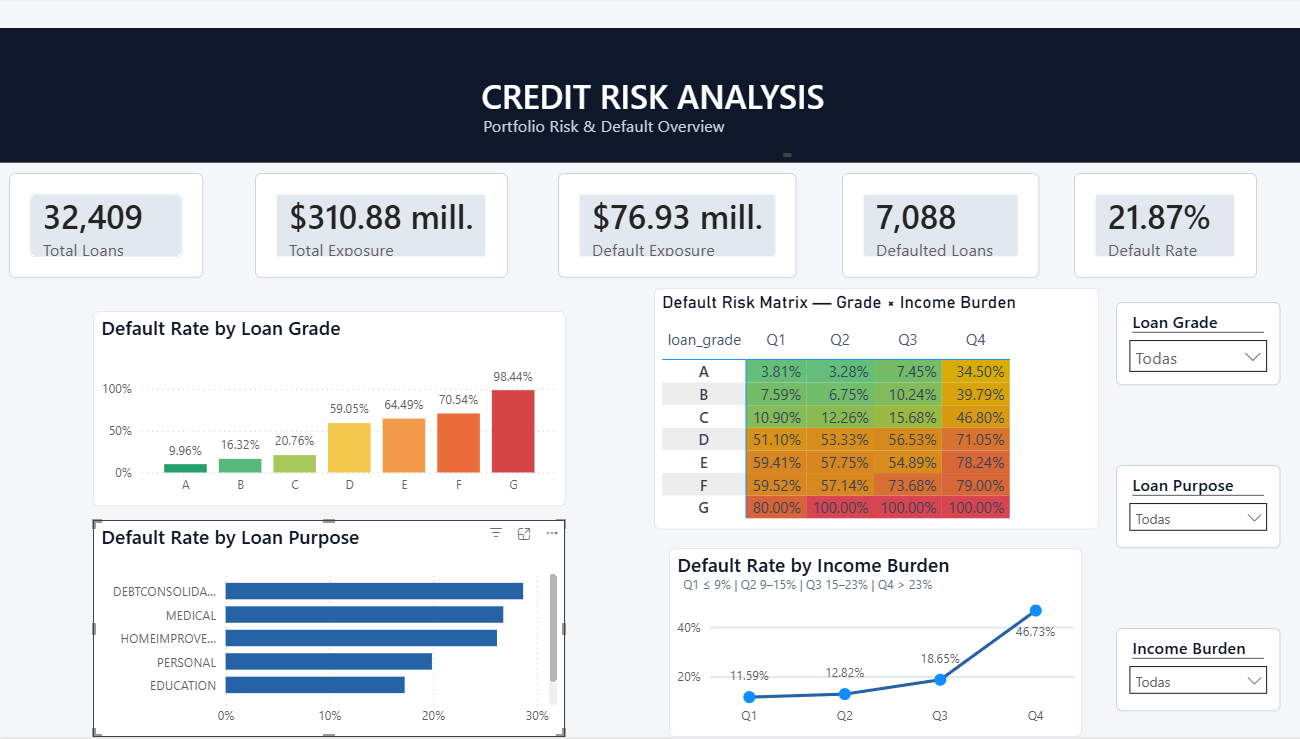

This screenshot's page, from the dashboard's own definition file:
{"tool":"powerbi","page":{"name":"Página 1","canvas":[1280,720],"ordinal":0},"visuals":[{"type":"cardVisual","fields":{"Data":["Data_Clean1.total_loans"]},"box":[13.4,171.5,189.1,102.3],"z":0},{"type":"cardVisual","fields":{"Data":["Data_Clean1.total_exposure"]},"box":[253.1,171.5,245.9,102.3],"z":1000},{"type":"cardVisual","fields":{"Data":["Data_Clean1.Defaulted Loans"]},"box":[823.4,171.5,192.2,102.3],"z":2000},{"type":"cardVisual","fields":{"Data":["Data_Clean1.default_rate"]},"box":[1049.6,171.5,177.7,102.3],"z":3000},{"type":"cardVisual","fields":{"Data":["Data_Clean1.default_exposure"]},"box":[547.5,171.5,232.4,102.3],"z":4000},{"type":"clusteredColumnChart","title":"Default Rate by Loan Grade","fields":{"Category":["Data_Clean1.loan_grade"],"Y":["Data_Clean1.default_rate"]},"box":[95,305.8,459.7,190.1],"z":5000},{"type":"clusteredBarChart","title":"Default Rate by Loan Purpose","fields":{"Category":["Data_Clean1.loan_intent"],"Y":["Data_Clean1.default_rate"]},"box":[95,508.3,459.7,211.8],"z":6000},{"type":"pivotTable","title":"Default Risk Matrix — Grade × Income Burden","fields":{"Rows":["Data_Clean1.loan_grade"],"Columns":["Data_Clean1.income_burden_group"],"Values":["Data_Clean1.default_rate"]},"box":[640.5,283.1,432.9,234.5],"z":7000},{"type":"lineChart","title":"Default Rate by Income Burden","fields":{"Category":["Data_Clean1.income_burden_group"],"Y":["Data_Clean1.default_rate"]},"box":[656,536.2,401.9,183.9],"z":8000},{"type":"shape","box":[0,30,1280,131.2],"z":9000},{"type":"textbox","title":"Portfolio Risk & Default Overview","box":[470.1,114.7,309.9,46.5],"z":10000},{"type":"slicer","title":"Loan Grade","fields":{"Values":["Data_Clean1.loan_grade"]},"box":[1089.9,296.5,160.1,80.6],"z":11000},{"type":"slicer","fields":{"Values":["Data_Clean1.loan_intent"]},"box":[1089.9,455.1,160.1,80.6],"z":12000},{"type":"slicer","fields":{"Values":["Data_Clean1.income_burden_group"]},"box":[1089.9,613.7,160.1,80.6],"z":13000},{"type":"textbox","title":"Q1 ≤ 9%  |  Q2 9–15%  |   Q3 15–23%  |  Q4 > 23%","box":[664.3,563,292.4,24.8],"z":14000}]}

Visuals, with their boxes in screenshot pixels (x1, y1, x2, y2), scaled from the page's 1280x720 canvas onto the 1300x739 screenshot:
cardVisual - Data_Clean1.total_loans: bbox=[14, 176, 206, 281]
cardVisual - Data_Clean1.total_exposure: bbox=[257, 176, 507, 281]
cardVisual - Data_Clean1.Defaulted Loans: bbox=[836, 176, 1031, 281]
cardVisual - Data_Clean1.default_rate: bbox=[1066, 176, 1246, 281]
cardVisual - Data_Clean1.default_exposure: bbox=[556, 176, 792, 281]
"Default Rate by Loan Grade" clusteredColumnChart: bbox=[96, 314, 563, 509]
"Default Rate by Loan Purpose" clusteredBarChart: bbox=[96, 522, 563, 738]
"Default Risk Matrix — Grade × Income Burden" pivotTable: bbox=[651, 291, 1090, 531]
"Default Rate by Income Burden" lineChart: bbox=[666, 550, 1074, 738]
shape: bbox=[0, 31, 1299, 165]
"Portfolio Risk & Default Overview" textbox: bbox=[477, 118, 792, 165]
"Loan Grade" slicer: bbox=[1107, 304, 1270, 387]
slicer - Data_Clean1.loan_intent: bbox=[1107, 467, 1270, 550]
slicer - Data_Clean1.income_burden_group: bbox=[1107, 630, 1270, 713]
"Q1 ≤ 9%  |  Q2 9–15%  |   Q3 15–23%  |  Q4 > 23%" textbox: bbox=[675, 578, 972, 603]
